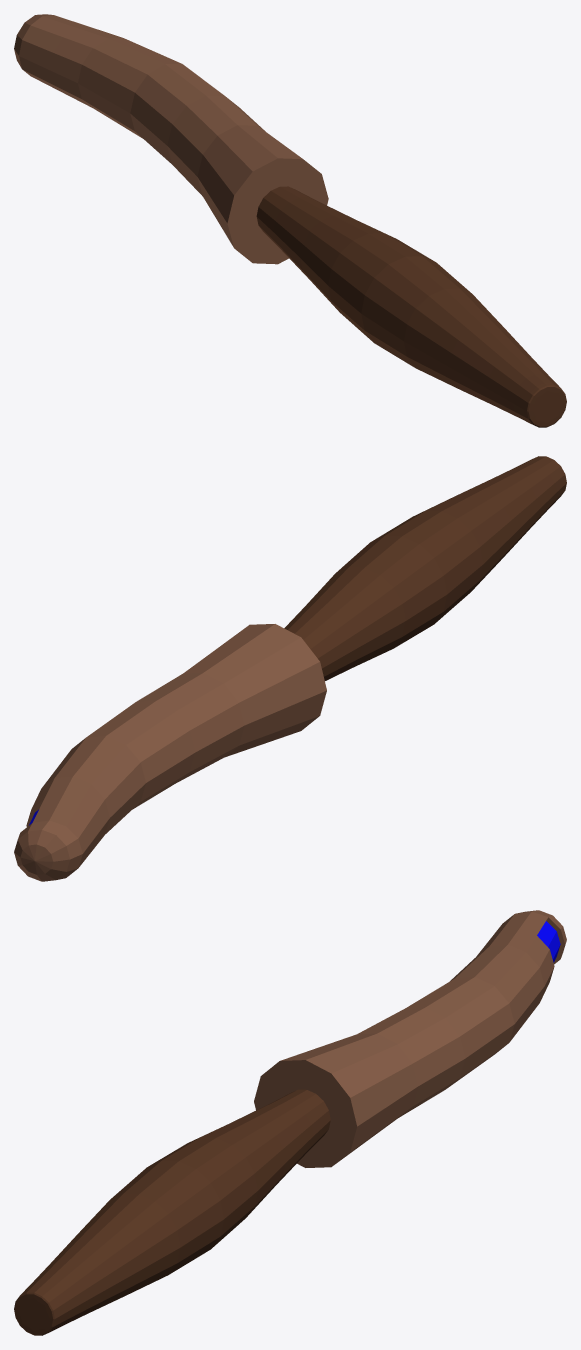
Rendered from Wand 21.glb.
The picture shows the model from 3 angles, top to bottom: view 1: azimuth 30°, elevation 25°; view 2: azimuth 150°, elevation 25°; view 3: azimuth 330°, elevation 25°; orthographic projection. The views are drawn at different scales.
Visible parts, largest first — view 1: GeneratedWand; view 2: GeneratedWand; view 3: GeneratedWand.
Boxes of the visible parts, x1,y1,x2,y2 form: GeneratedWand: (14, 14, 566, 427); GeneratedWand: (14, 456, 566, 881); GeneratedWand: (14, 910, 566, 1335).
Size of the model in its own units: 0.0644 by 0.0572 by 0.4994.
